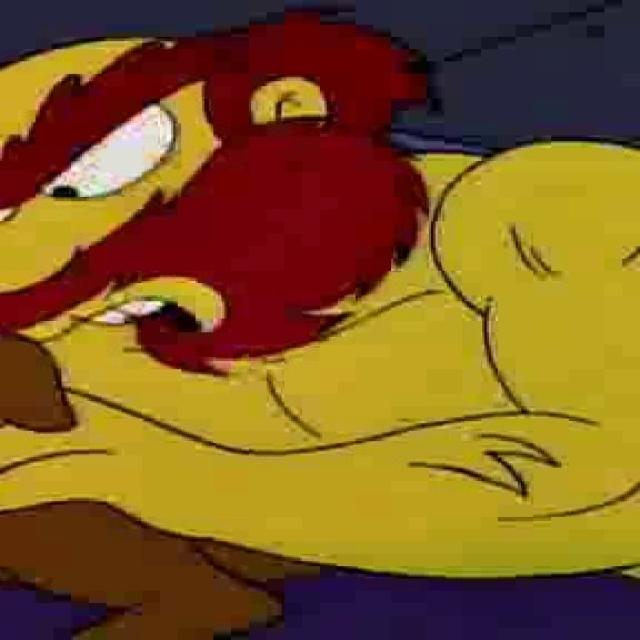Groundskeeper Willie: (0, 3, 453, 384)
